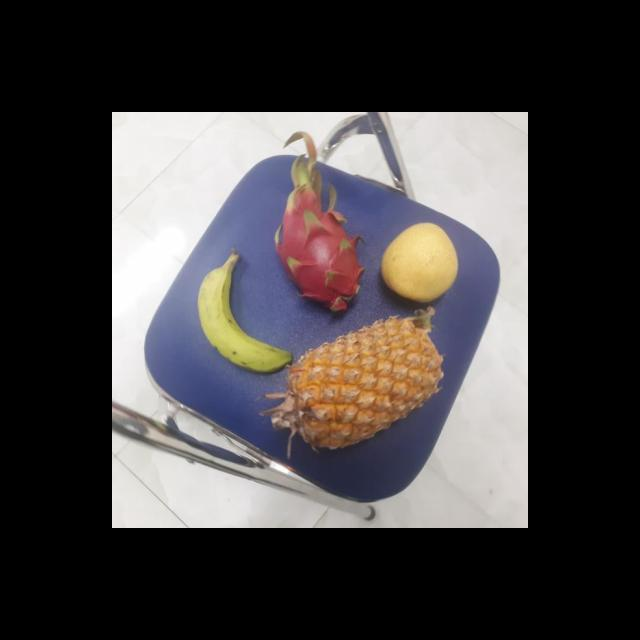banana: (194, 253, 292, 372)
pear: (378, 223, 458, 300)
pineapple: (273, 318, 437, 448)
pitaya: (274, 177, 368, 319)
